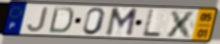0: (82, 7, 107, 36)
D: (47, 6, 75, 35)
J: (26, 6, 50, 33)
L: (141, 9, 163, 38)
M: (104, 7, 140, 38)
X: (164, 9, 199, 39)
